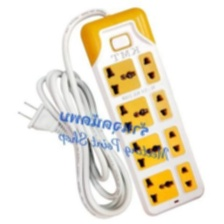three_eye_plug: (75, 3, 209, 218)
